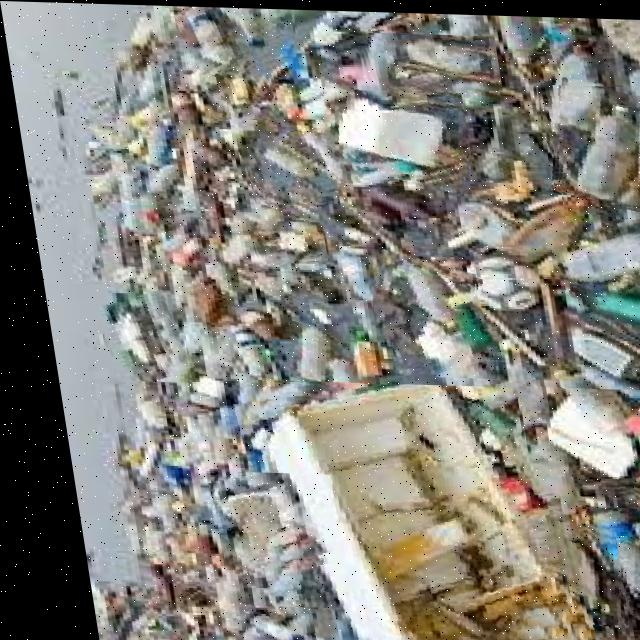plasticbottle: (538, 80, 640, 205), (493, 518, 610, 621), (357, 252, 477, 346), (523, 29, 610, 152), (552, 502, 640, 620), (368, 30, 501, 97), (540, 213, 640, 289), (234, 129, 334, 205), (352, 14, 426, 111), (273, 321, 352, 391), (210, 5, 299, 64), (176, 4, 251, 73), (199, 54, 275, 118), (560, 269, 640, 329), (222, 603, 320, 640)
thermocoal: (223, 377, 572, 640), (506, 383, 640, 494), (194, 469, 329, 572), (87, 291, 181, 381), (376, 304, 491, 375), (241, 218, 321, 264)
wood: (310, 86, 470, 184)
